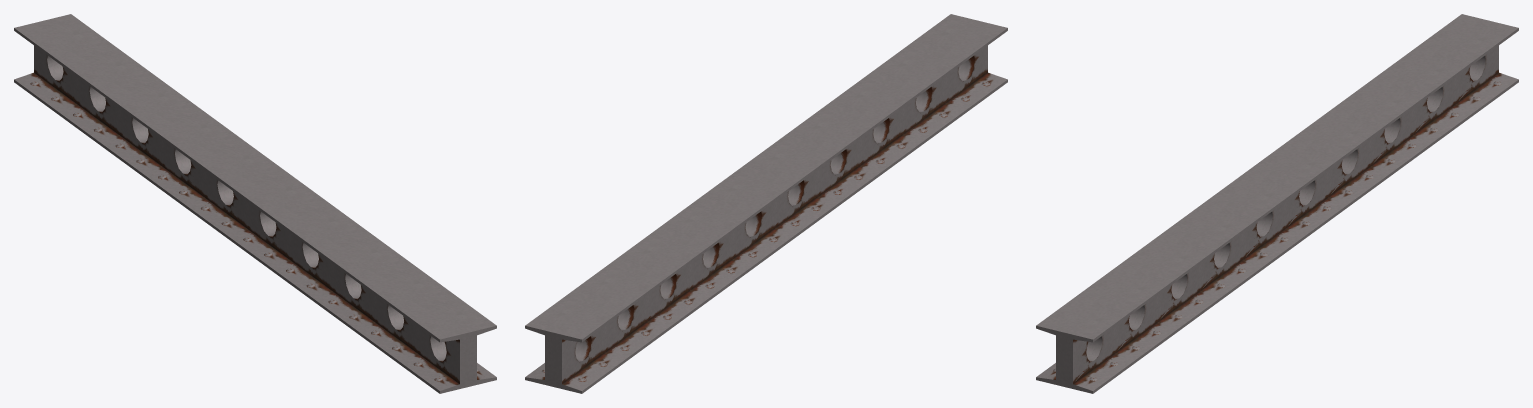
Rendered from Girderbeam.FBX.
3 views of the same model, side by side, from view 1: azimuth 30°, elevation 25°; view 2: azimuth 150°, elevation 25°; view 3: azimuth 330°, elevation 25° (orthographic).
Visible parts, largest first — view 1: Girderpiece, Girderpiece008, Girderpiece001, Girderpiece006, Girderpiece007, Girderpiece009, Girderpiece002, Girderpiece005, Girderpiece003, Girderpiece004; view 2: Girderpiece009, Girderpiece008, Girderpiece001, Girderpiece003, Girderpiece, Girderpiece002, Girderpiece005, Girderpiece006, Girderpiece007, Girderpiece004; view 3: Girderpiece, Girderpiece001, Girderpiece008, Girderpiece006, Girderpiece009, Girderpiece002, Girderpiece003, Girderpiece007, Girderpiece005, Girderpiece004.
Part boxes in pixels (bbox=[...]): Girderpiece: bbox=[397, 294, 496, 393]; Girderpiece008: bbox=[56, 45, 155, 144]; Girderpiece001: bbox=[354, 263, 453, 362]; Girderpiece006: bbox=[142, 107, 240, 206]; Girderpiece007: bbox=[99, 76, 198, 175]; Girderpiece009: bbox=[14, 14, 113, 112]; Girderpiece002: bbox=[312, 232, 411, 331]; Girderpiece005: bbox=[184, 138, 283, 237]; Girderpiece003: bbox=[269, 201, 368, 299]; Girderpiece004: bbox=[227, 170, 325, 268]; Girderpiece009: bbox=[525, 294, 624, 393]; Girderpiece008: bbox=[568, 263, 667, 362]; Girderpiece001: bbox=[866, 45, 965, 144]; Girderpiece003: bbox=[781, 107, 880, 206]; Girderpiece: bbox=[908, 14, 1007, 112]; Girderpiece002: bbox=[823, 76, 922, 175]; Girderpiece005: bbox=[696, 170, 794, 268]; Girderpiece006: bbox=[653, 201, 752, 299]; Girderpiece007: bbox=[611, 232, 709, 331]; Girderpiece004: bbox=[738, 138, 837, 237]; Girderpiece: bbox=[1036, 294, 1135, 393]; Girderpiece001: bbox=[1079, 263, 1178, 362]; Girderpiece008: bbox=[1377, 45, 1476, 144]; Girderpiece006: bbox=[1292, 107, 1391, 206]; Girderpiece009: bbox=[1419, 14, 1518, 112]; Girderpiece002: bbox=[1122, 232, 1220, 331]; Girderpiece003: bbox=[1164, 201, 1263, 299]; Girderpiece007: bbox=[1334, 76, 1433, 175]; Girderpiece005: bbox=[1249, 138, 1348, 237]; Girderpiece004: bbox=[1207, 170, 1305, 268].
Bounding box in the file's own units: 3.94 × 3.58 × 50.91.
